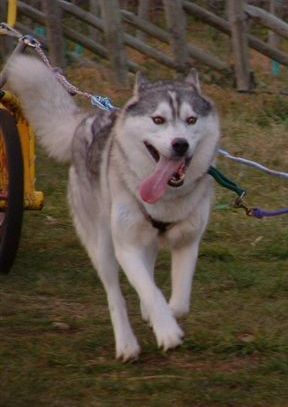dog: (6, 48, 232, 358)
